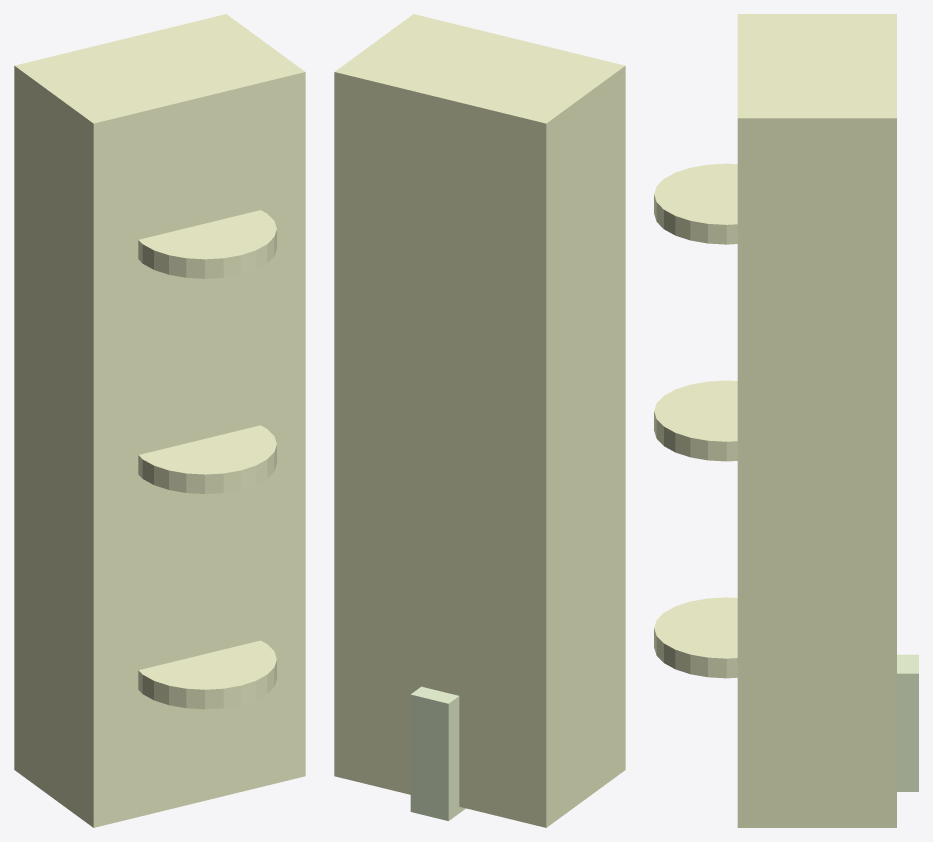
File: signal_vehicle_vertical_3_aspect.glb
3 views of the same model, side by side, from view 1: azimuth 30°, elevation 25°; view 2: azimuth 150°, elevation 25°; view 3: azimuth 270°, elevation 25° (orthographic).
Parts seen in each view (by area): view 1: housing, lens_yellow, lens_red, lens_green; view 2: housing, bracket; view 3: housing, lens_red, lens_green, lens_yellow, bracket.
Boxes of the visible parts, x1,y1,x2,y2 form: housing: (14,14,305,827); lens_yellow: (138,425,276,493); lens_red: (138,210,276,278); lens_green: (138,640,276,709); housing: (334,14,625,827); bracket: (410,686,465,820); housing: (737,14,896,827); lens_red: (654,163,737,244); lens_green: (654,597,737,678); lens_yellow: (654,380,737,461); bracket: (897,654,918,791).
Size of the model in its own units: 0.34 by 1.09 by 0.365.
